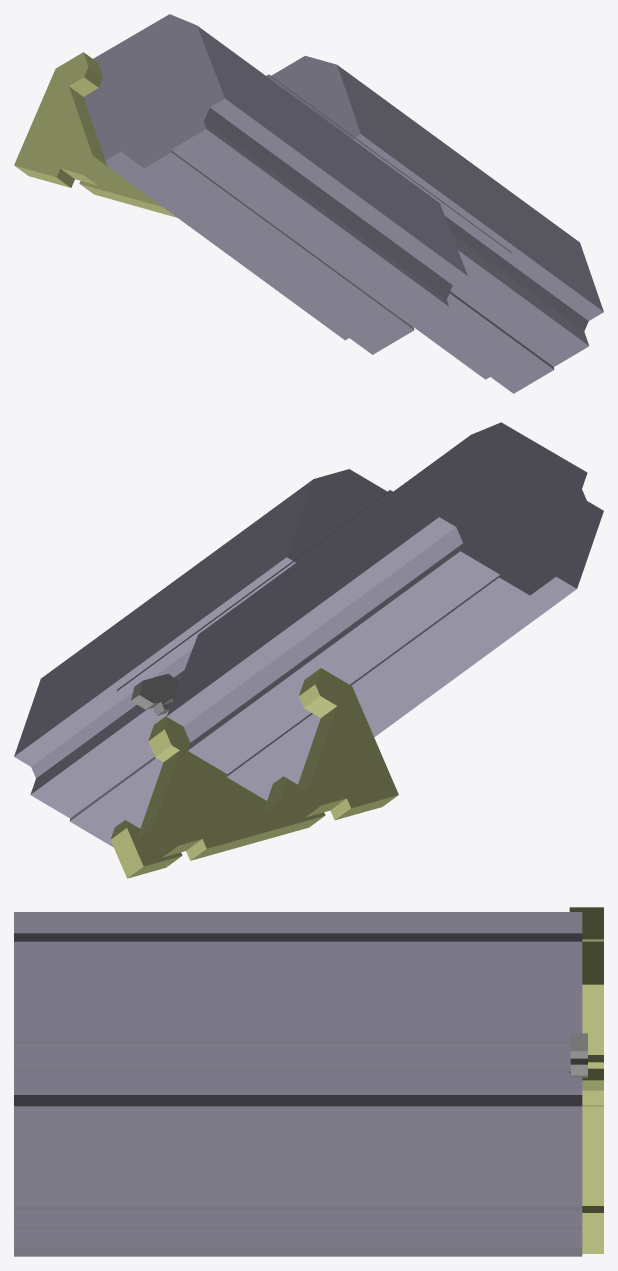
3 views of the same model, one above another, from view 1: azimuth 30°, elevation 25°; view 2: azimuth 150°, elevation 25°; view 3: azimuth 270°, elevation 25° (orthographic). The views are drawn at different scales.
Parts seen in each view (by area): view 1: 0_1_0_0_2_1_3_2; view 2: 0_1_0_0_2_1_3_2; view 3: 0_1_0_0_2_1_3_2.
Part boxes in pixels (x1,y1,x2,y2): 0_1_0_0_2_1_3_2: (14,14,603,393); 0_1_0_0_2_1_3_2: (14,422,603,878); 0_1_0_0_2_1_3_2: (14,907,603,1256).
Bounding box in the file's own units: 79.41 × 54.34 × 103.
